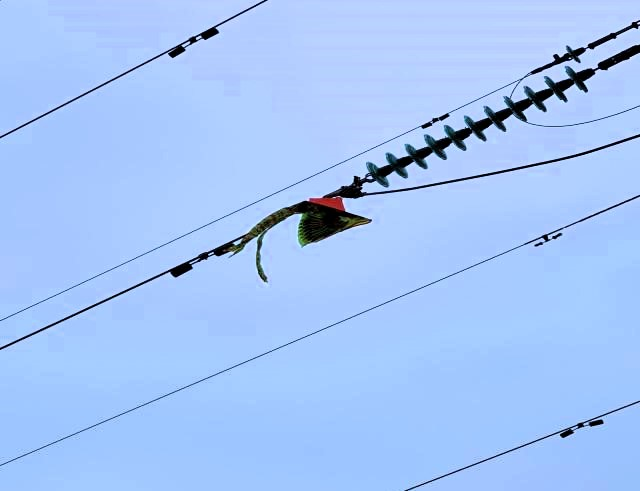wire foreign body: (224, 186, 380, 278)
